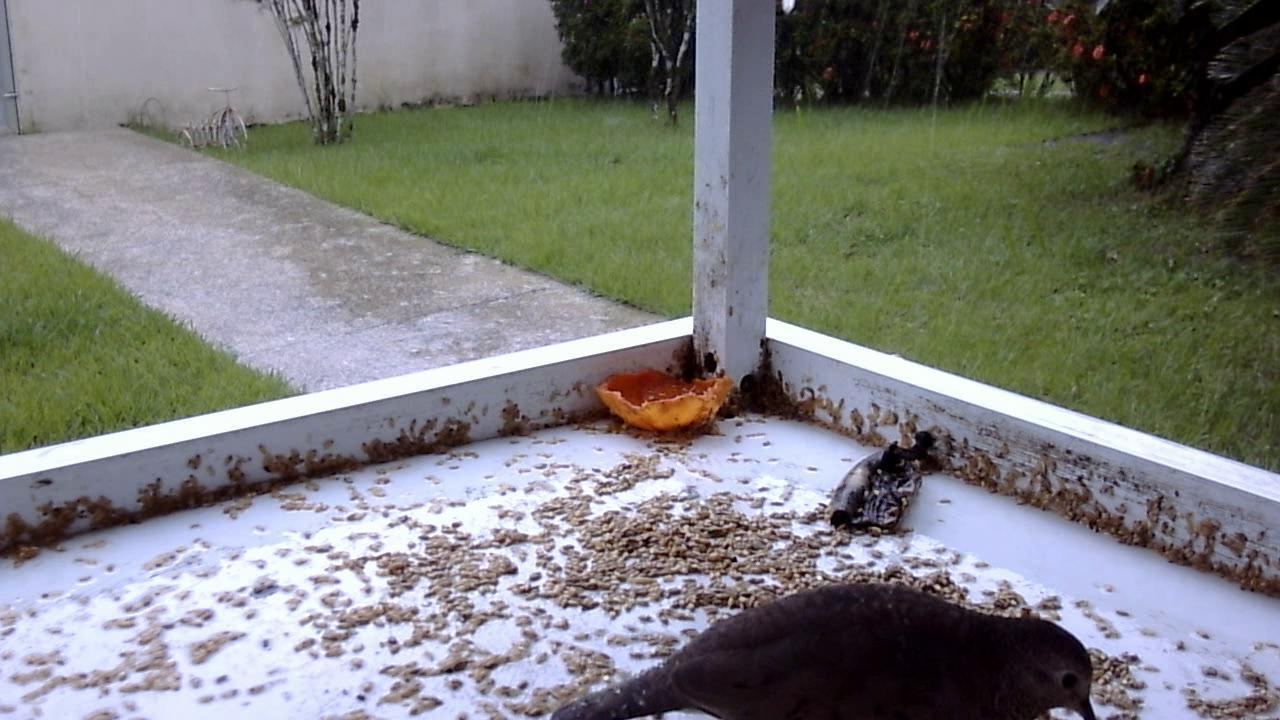rolinha: (531, 567, 1122, 720)
